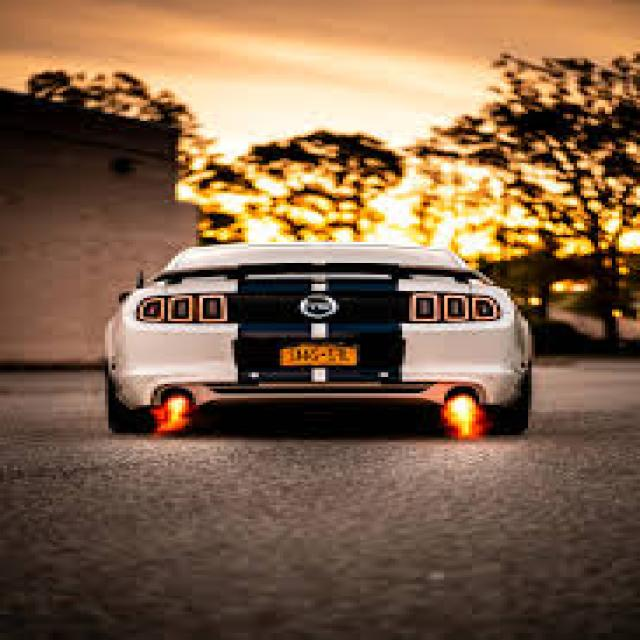car: (107, 244, 535, 435)
